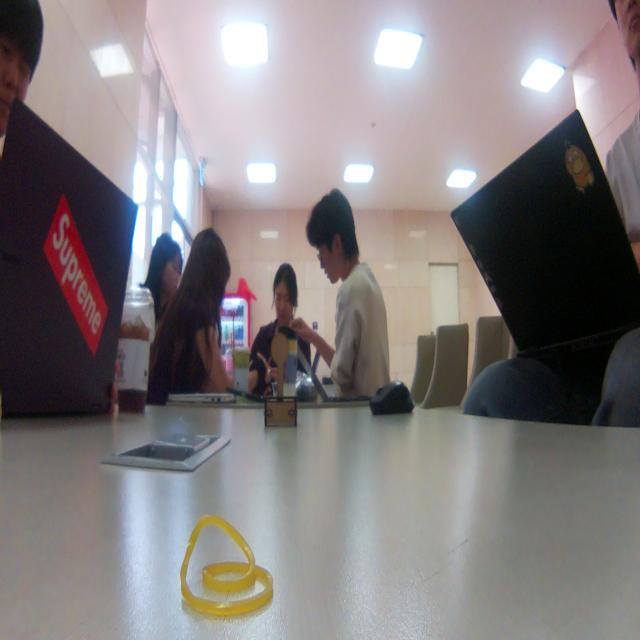target: (264, 330, 297, 430)
